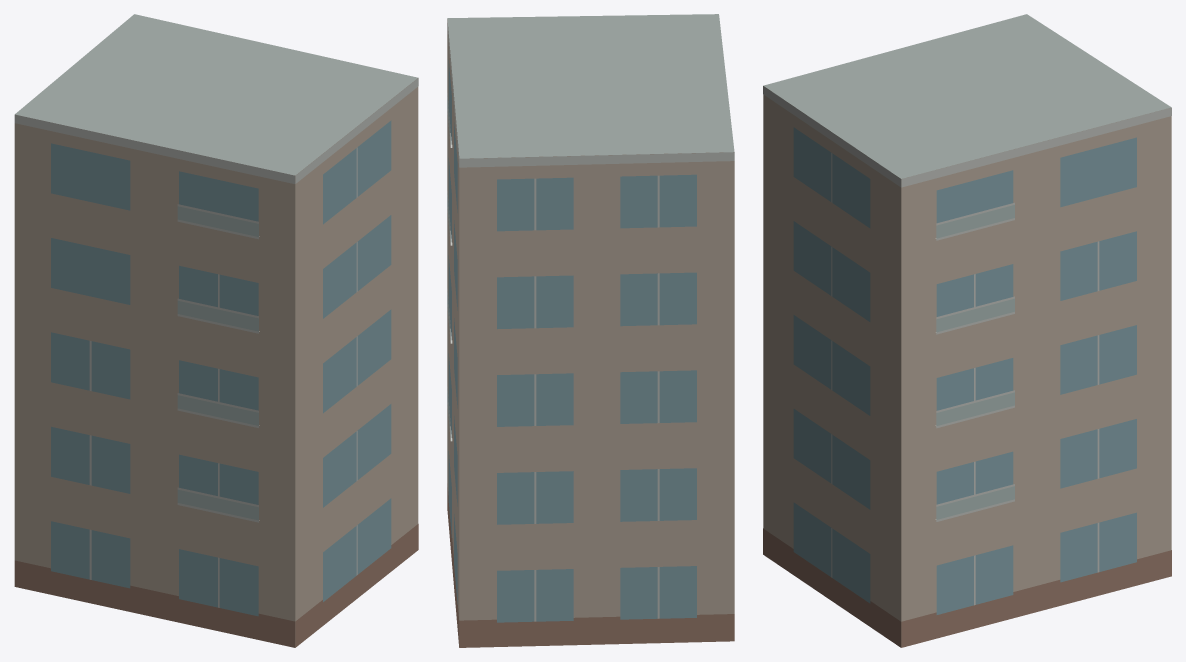
File: survey-upis-32905727.glb
3 renders of one model, left to right at view 1: azimuth 30°, elevation 25°; view 2: azimuth 150°, elevation 25°; view 3: azimuth 270°, elevation 25°, orthographic. The views are drawn at different scales.
Parts seen in each view (by area): view 1: survey-upis-32905727.tmp; view 2: survey-upis-32905727.tmp; view 3: survey-upis-32905727.tmp.
Boxes of the visible parts, x1,y1,x2,y2 form: survey-upis-32905727.tmp: [14, 14, 418, 647]; survey-upis-32905727.tmp: [447, 14, 734, 647]; survey-upis-32905727.tmp: [763, 14, 1171, 647].
Size of the model in its own units: 10.04 by 13.3 by 10.51.
